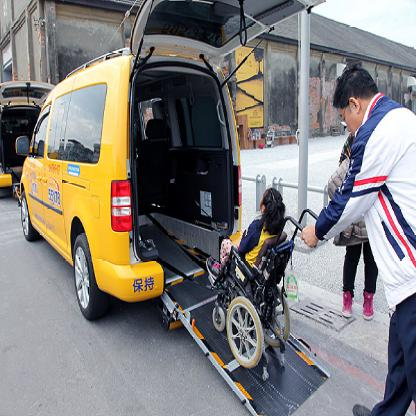wheelchair: (201, 185, 321, 375)
